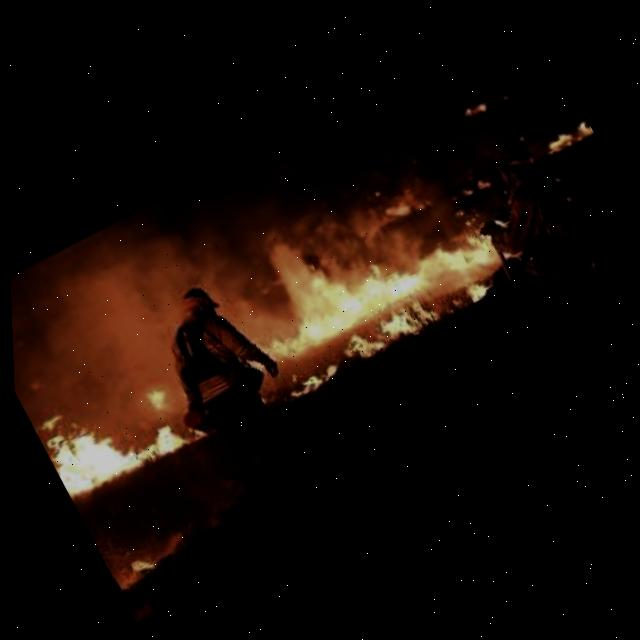Fire: (186, 132, 540, 413), (29, 362, 207, 504)
Smoke: (5, 183, 252, 437)
